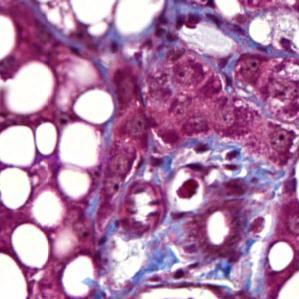steatosis: (72, 87, 117, 124)
